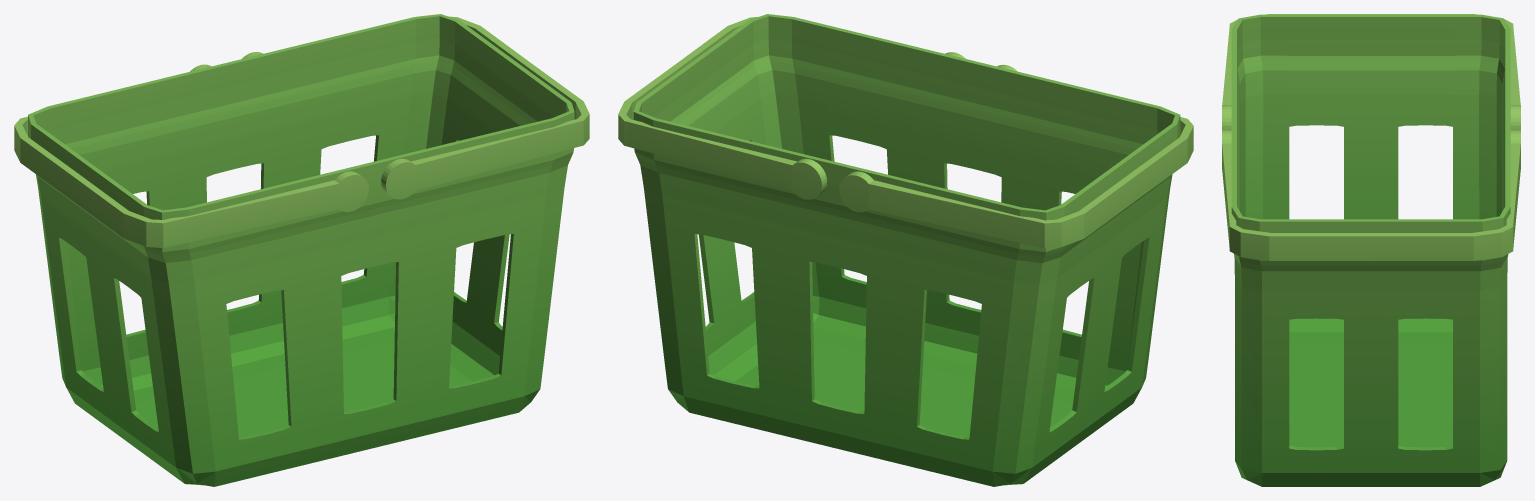
Rendered from basket_green.fbx.
3 renders of one model, left to right at view 1: azimuth 30°, elevation 25°; view 2: azimuth 150°, elevation 25°; view 3: azimuth 270°, elevation 25°, orthographic.
Visible parts, largest first — view 1: basket_green, handle2_green, handle1_green; view 2: basket_green, handle2_green, handle1_green; view 3: basket_green, handle1_green, handle2_green.
Part boxes in pixels (box(x1,y1,x2,y2)): basket_green: box(28, 14, 574, 486); handle2_green: box(14, 64, 368, 247); handle1_green: box(242, 16, 589, 199); basket_green: box(633, 14, 1180, 486); handle2_green: box(839, 64, 1193, 248); handle1_green: box(618, 17, 965, 199); basket_green: box(1231, 14, 1510, 486); handle1_green: box(1222, 130, 1520, 260); handle2_green: box(1222, 14, 1520, 129).
Bounding box in the file's own units: 344 × 211 × 195.
